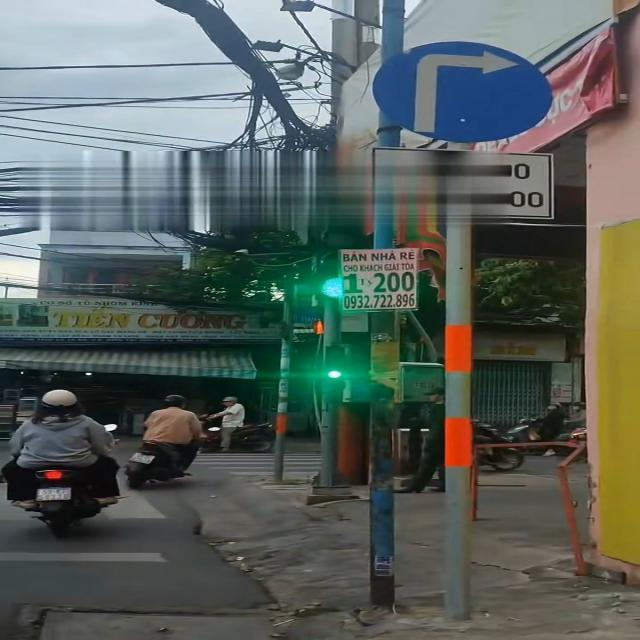301d-cac-xe-chi-duoc-re-phai-2: (374, 40, 552, 140)
